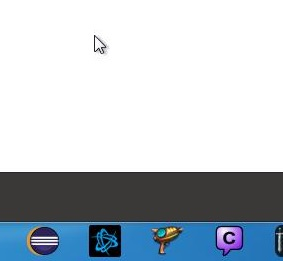cursor: (93, 33, 107, 55)
